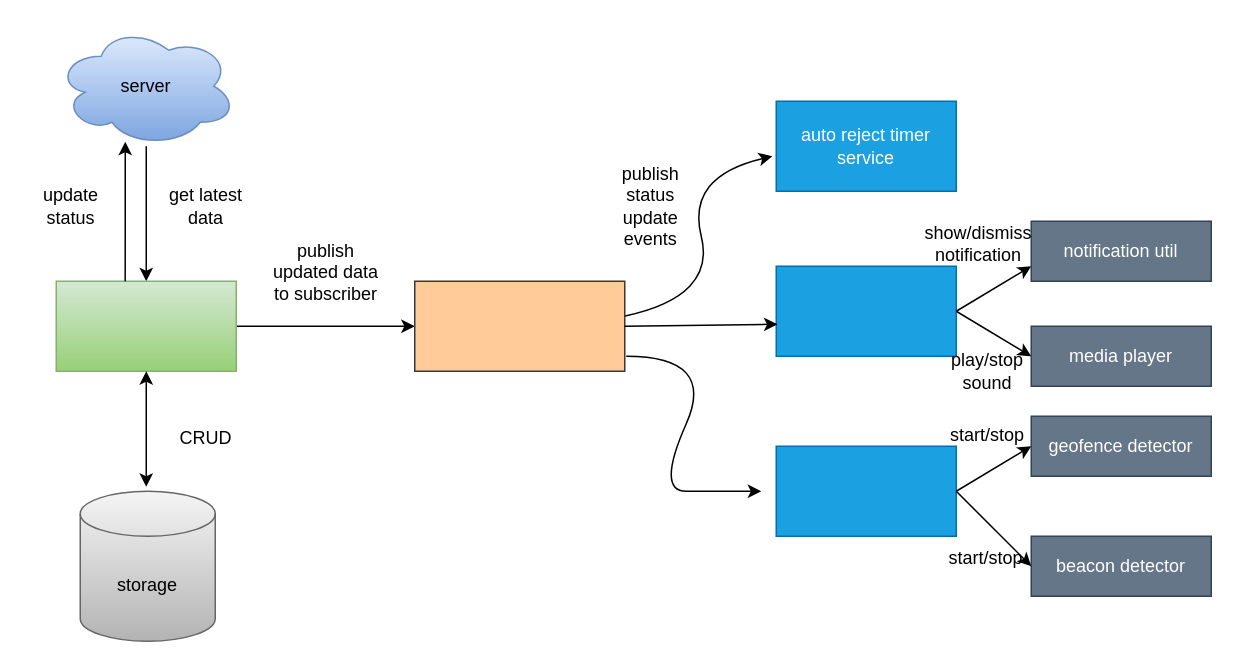
Image size: 1238x668. Some labels were removed from this diagram. The centre of each missing label's shape, as x and y in pixels:
order communication service: point 865,310
order status tracker: point 519,325
order sync module: point 145,325
proximity detector: point 865,490
